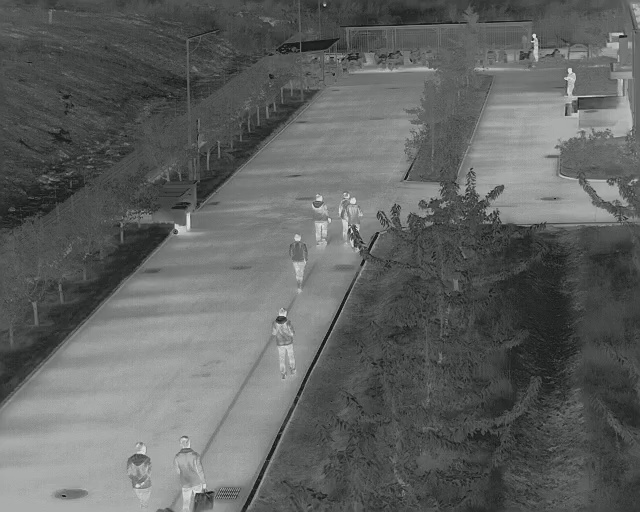person: (171, 431, 216, 511), (268, 306, 301, 382), (127, 438, 157, 507), (288, 231, 309, 294), (310, 192, 331, 247), (337, 192, 350, 241), (346, 195, 363, 231), (564, 66, 577, 100), (531, 32, 541, 66)
